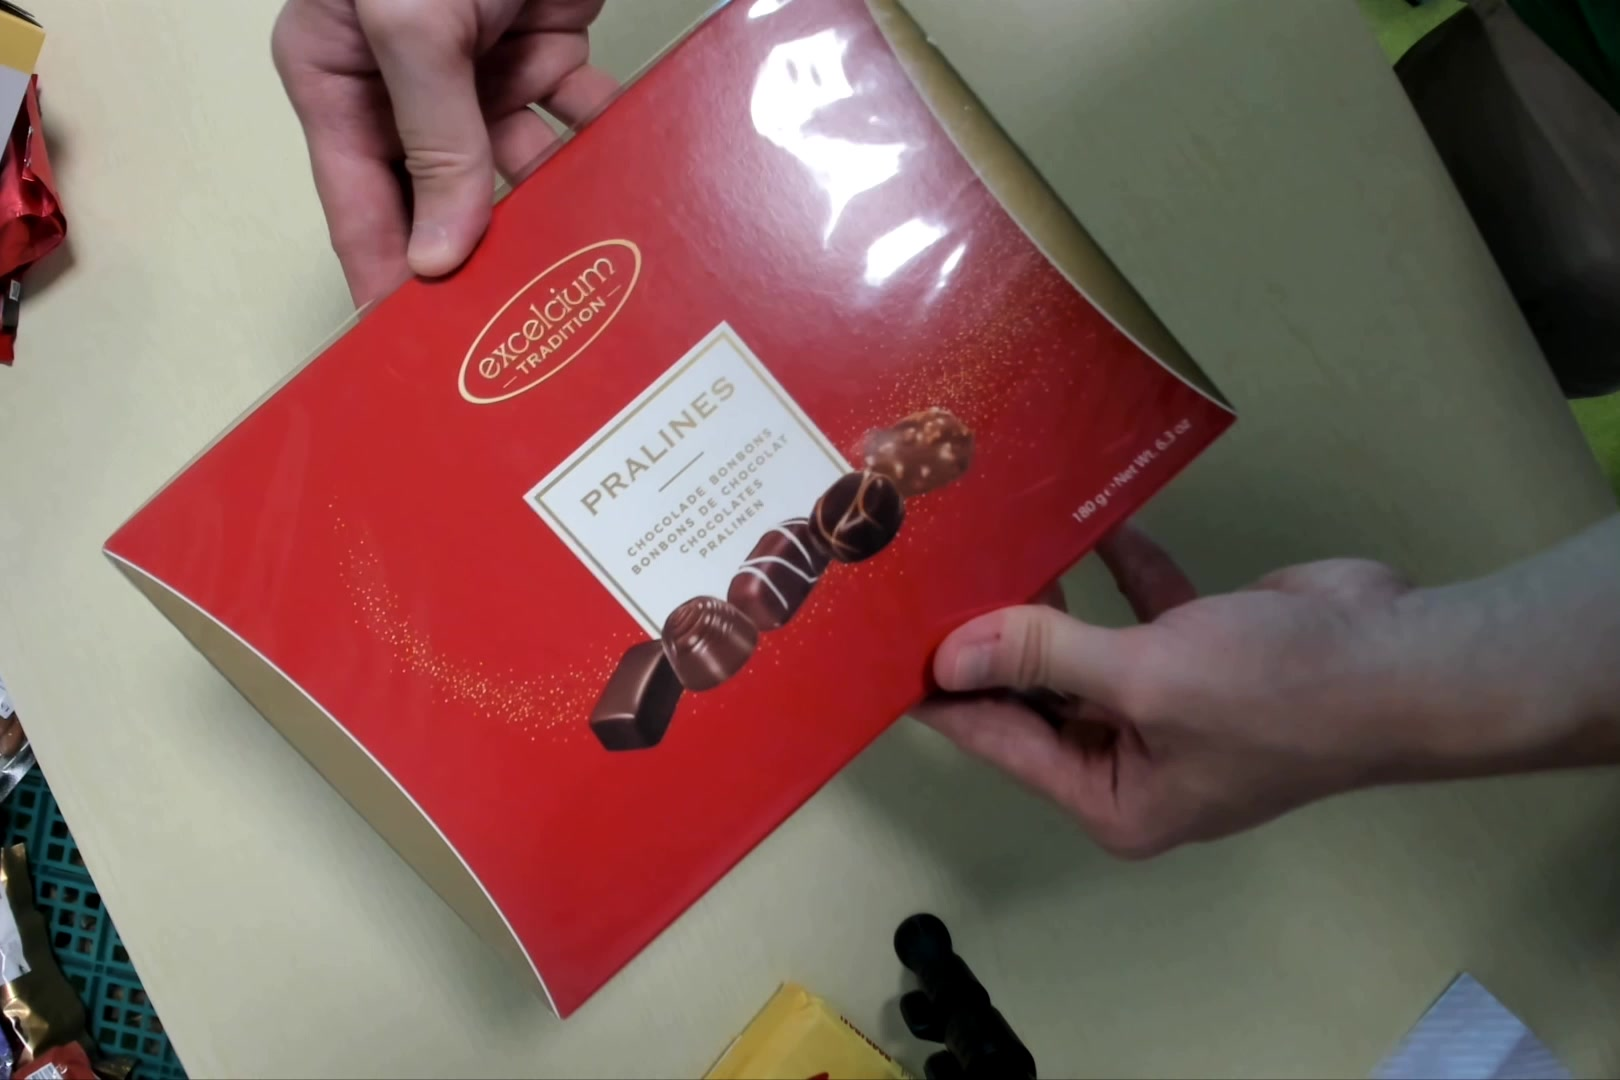SweetsChocolatesOthers_100-199g_NonHalal_NonHealthy: (121, 2, 1234, 1022)
